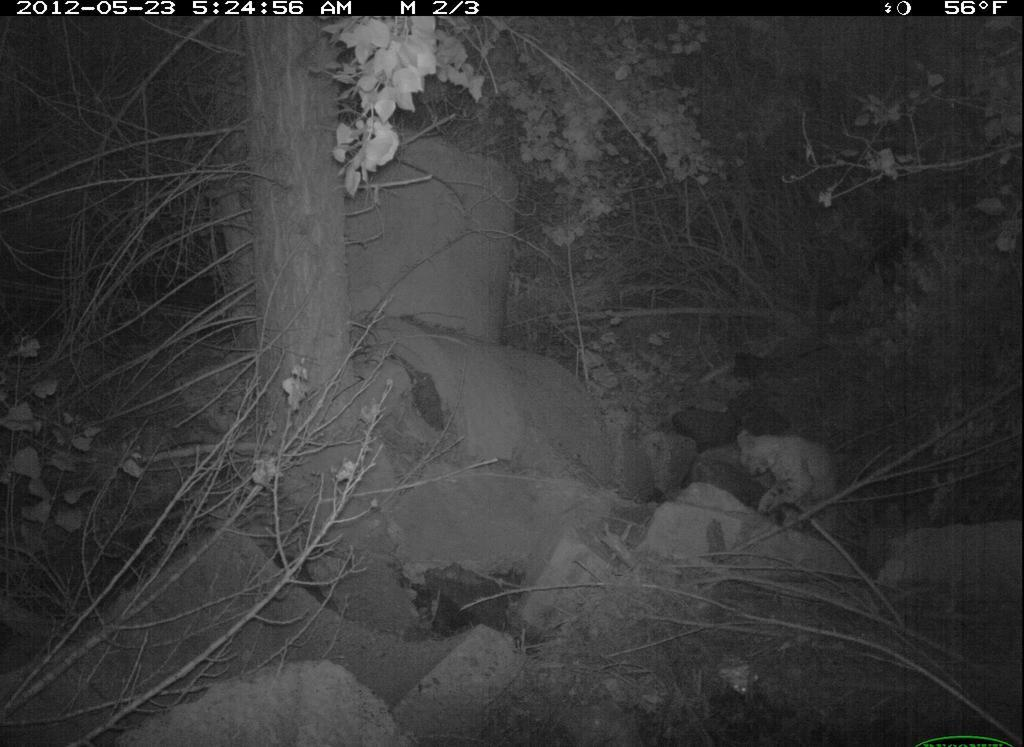bobcat: (731, 410, 848, 553)
